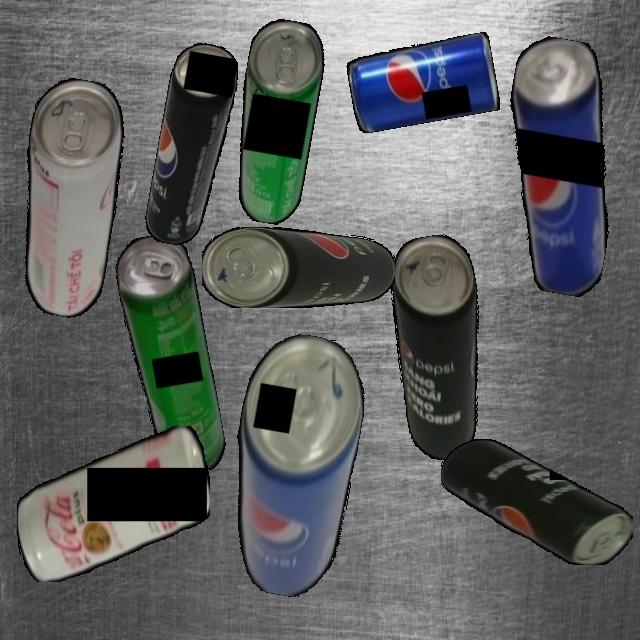debris: (212, 327, 375, 603), (479, 32, 640, 300), (0, 73, 137, 322), (16, 425, 210, 582), (377, 230, 505, 464), (111, 230, 229, 479), (441, 438, 633, 565), (221, 15, 331, 228), (142, 39, 243, 250), (345, 32, 501, 134), (202, 226, 395, 308)
